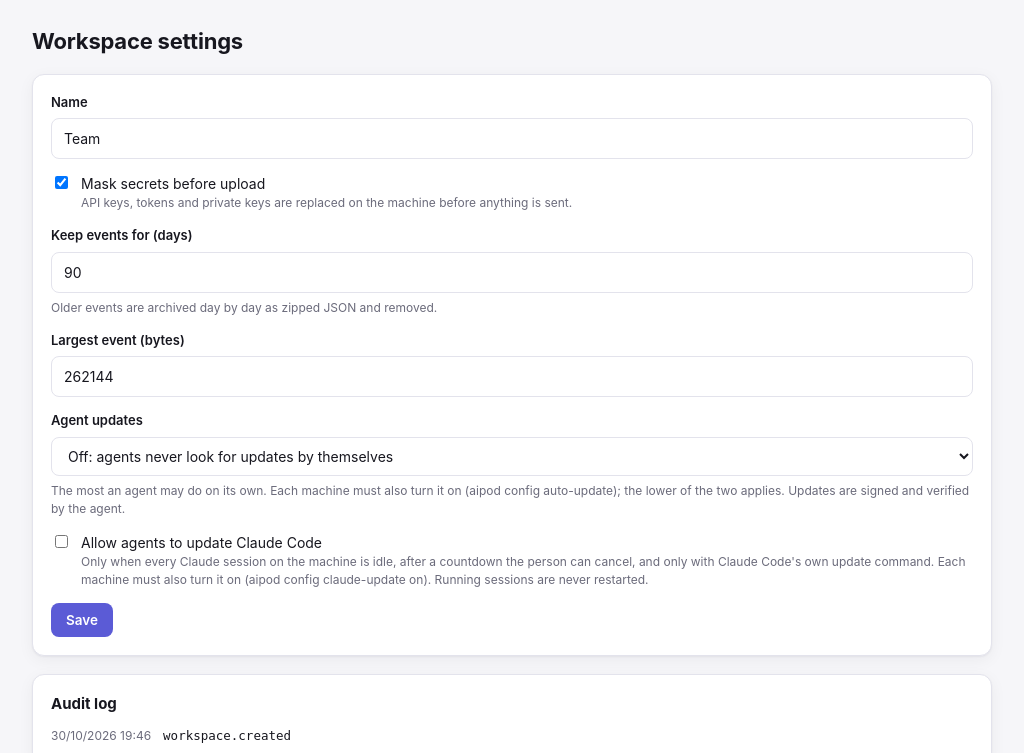
Test: workspace settings and account › saves the name and capture settings and shows the audit log
expect the text "workspace.created" is shown: met, box [163,727,291,746]
Replace the text in the field labelled "Name" with "Renamed" at (512, 138), box [51,118,973,159]
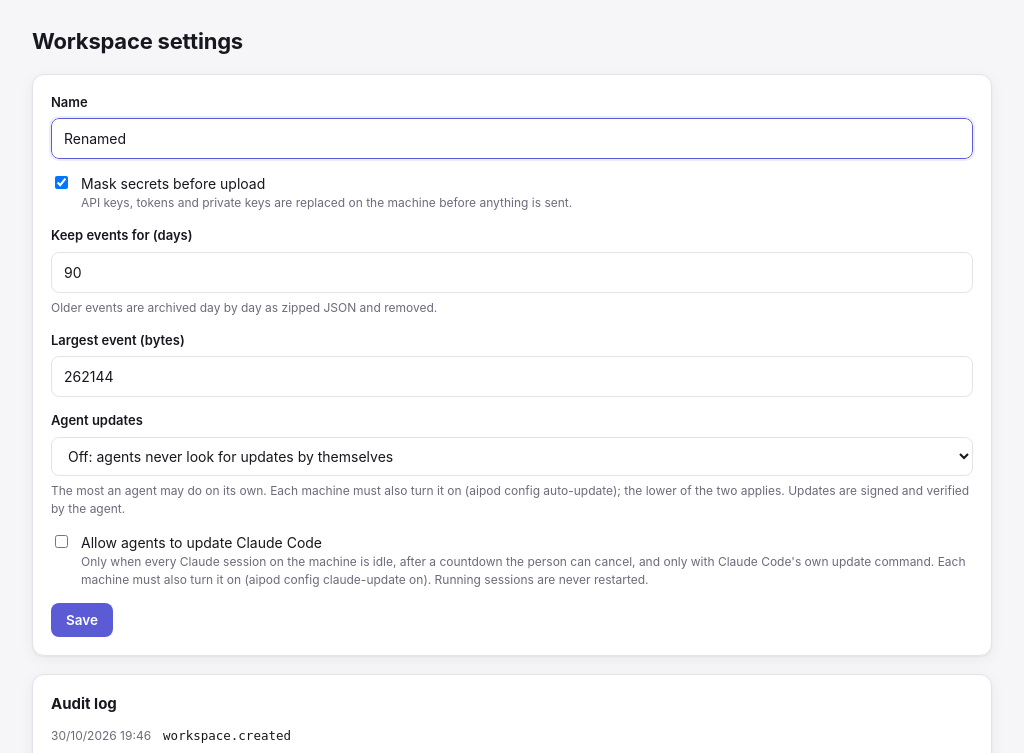
Click the checkbox labelled "Mask secrets before upload" at (62, 182), box [55,176,68,189]
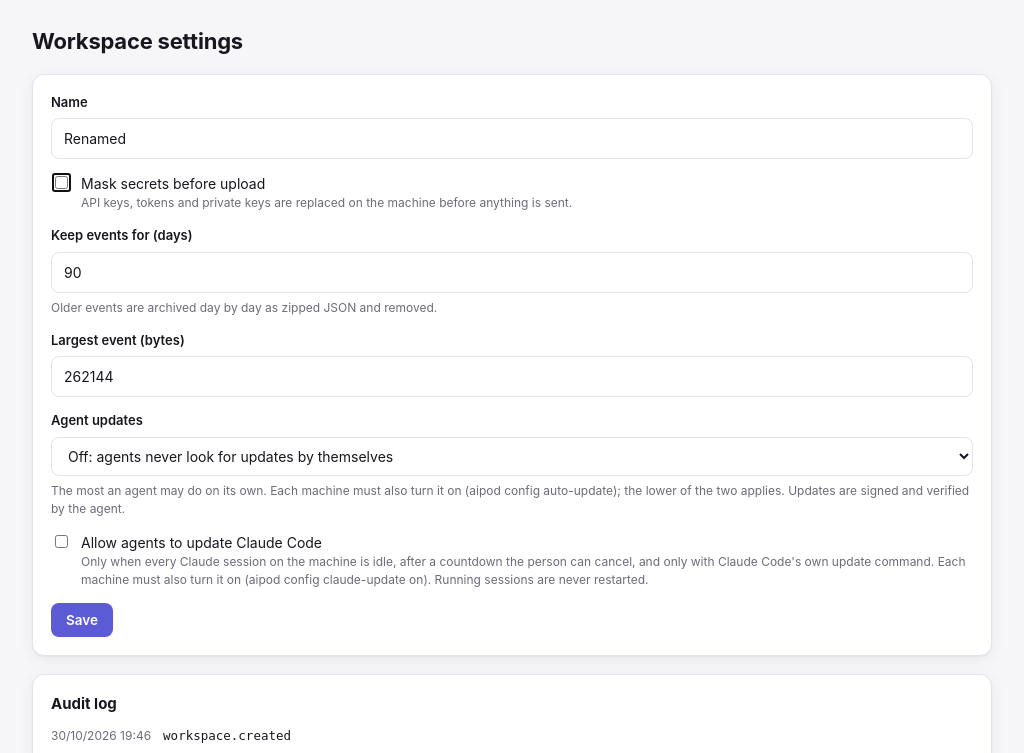
Replace the text in the number field labelled "Keep events for (days)" with "30" at (512, 272), box [51,252,973,292]
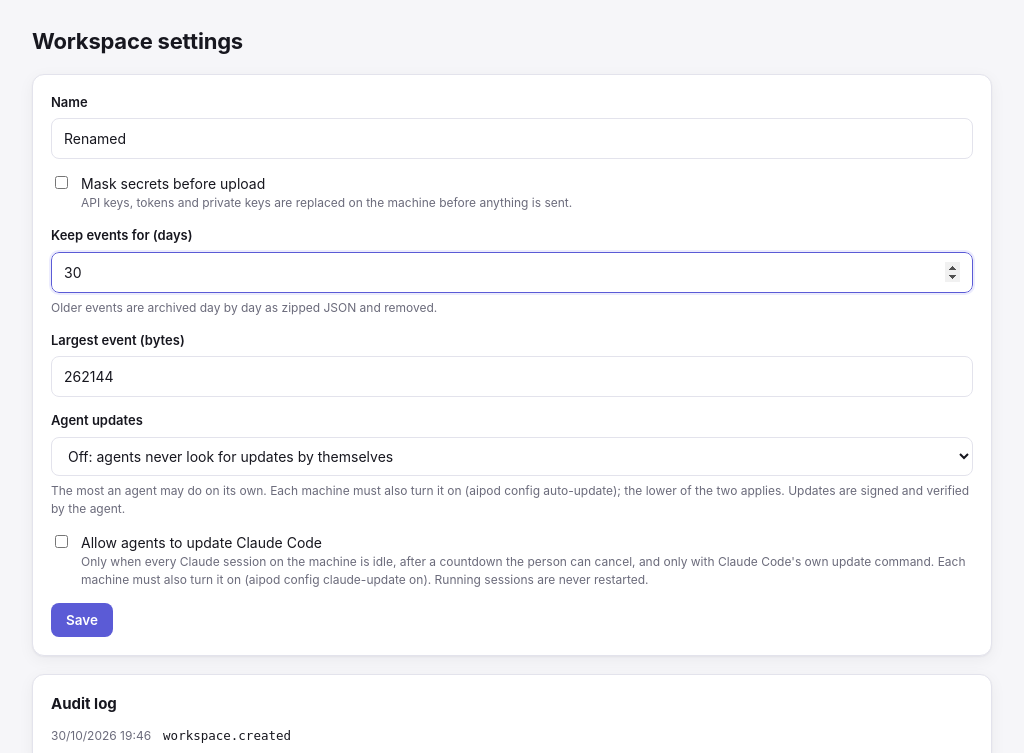
Click the button "Save" at (82, 620), box [51,602,113,636]
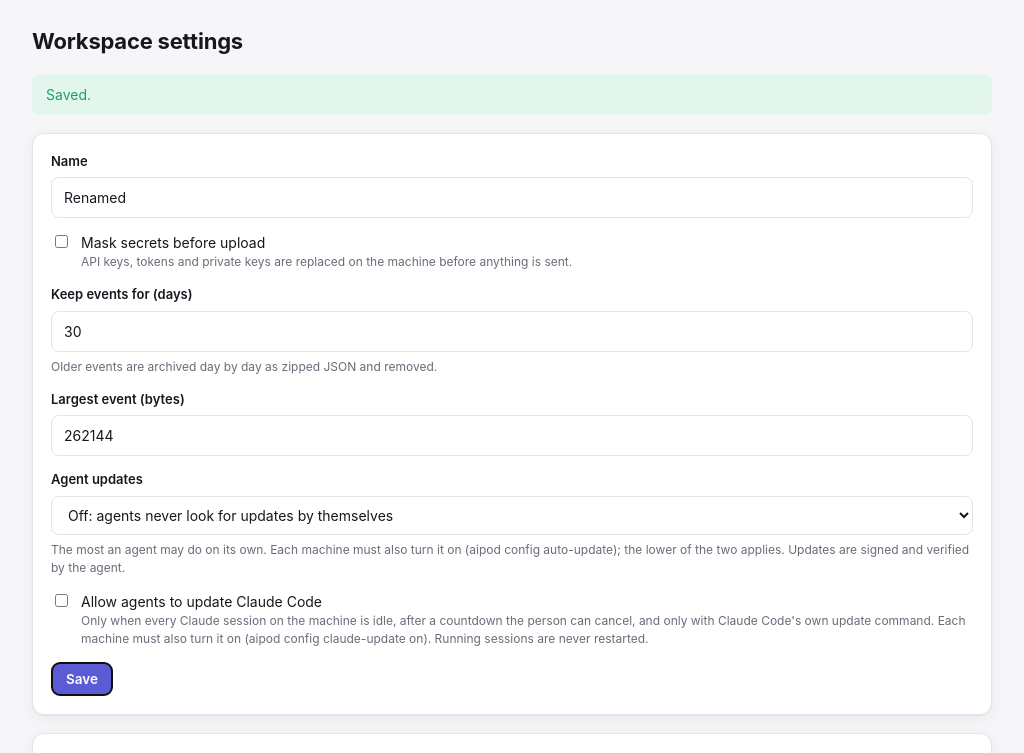
expect the text "Saved." is shown: met, box [32,74,992,114]
